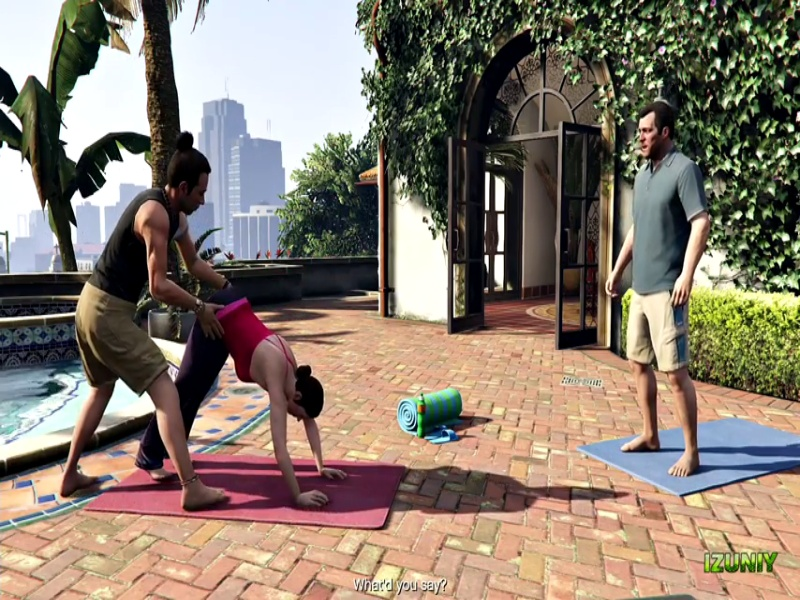human: (609, 107, 709, 467)
